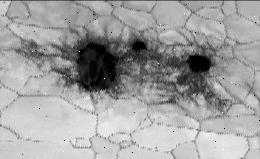good_void: (14, 23, 231, 118)
